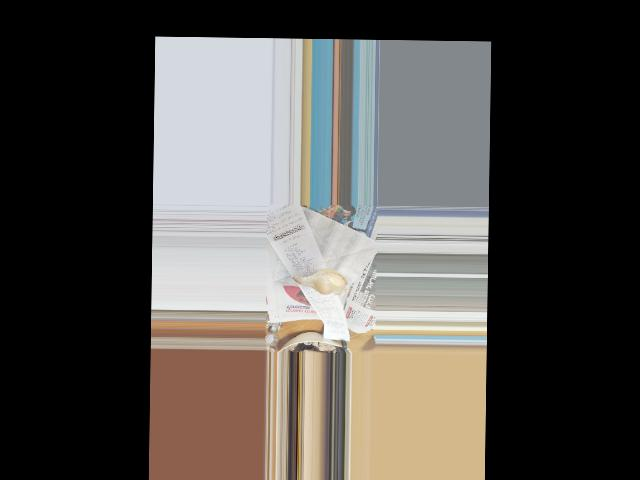onion: (299, 267, 346, 294)
